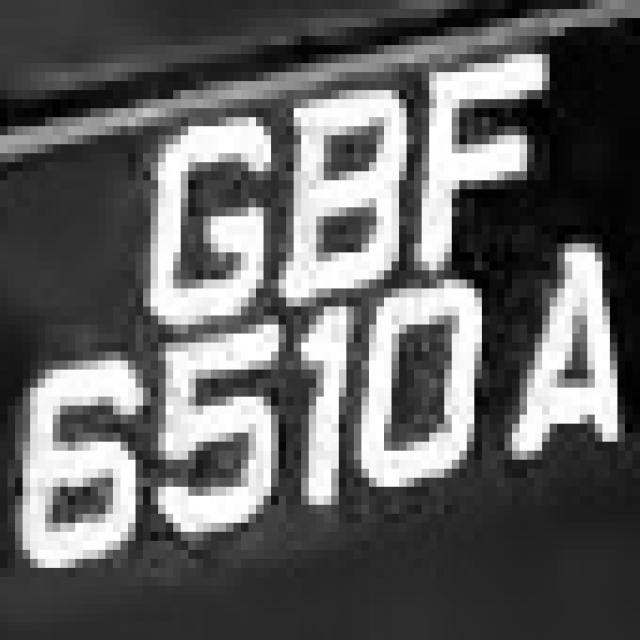0: (354, 270, 489, 541)
1: (263, 288, 354, 559)
5: (151, 315, 286, 559)
6: (0, 315, 143, 604)
A: (504, 243, 625, 478)
B: (279, 63, 414, 325)
F: (414, 27, 580, 261)
G: (120, 99, 278, 343)
